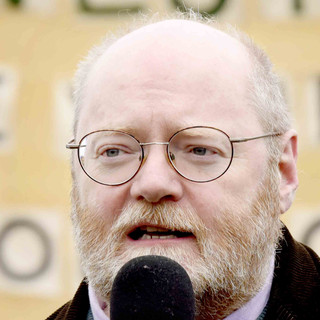eye: (183, 139, 227, 162), (92, 142, 138, 161)
